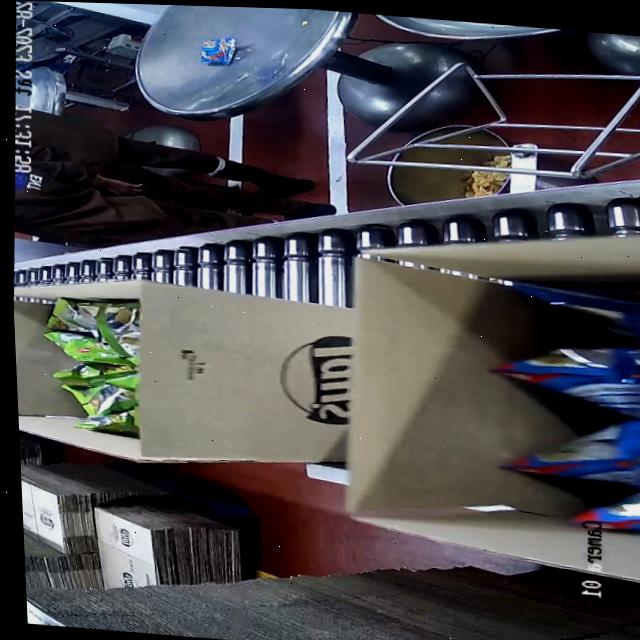PAPRIKA: (481, 276, 640, 545)
YOGURT_HERB: (29, 295, 143, 440)
